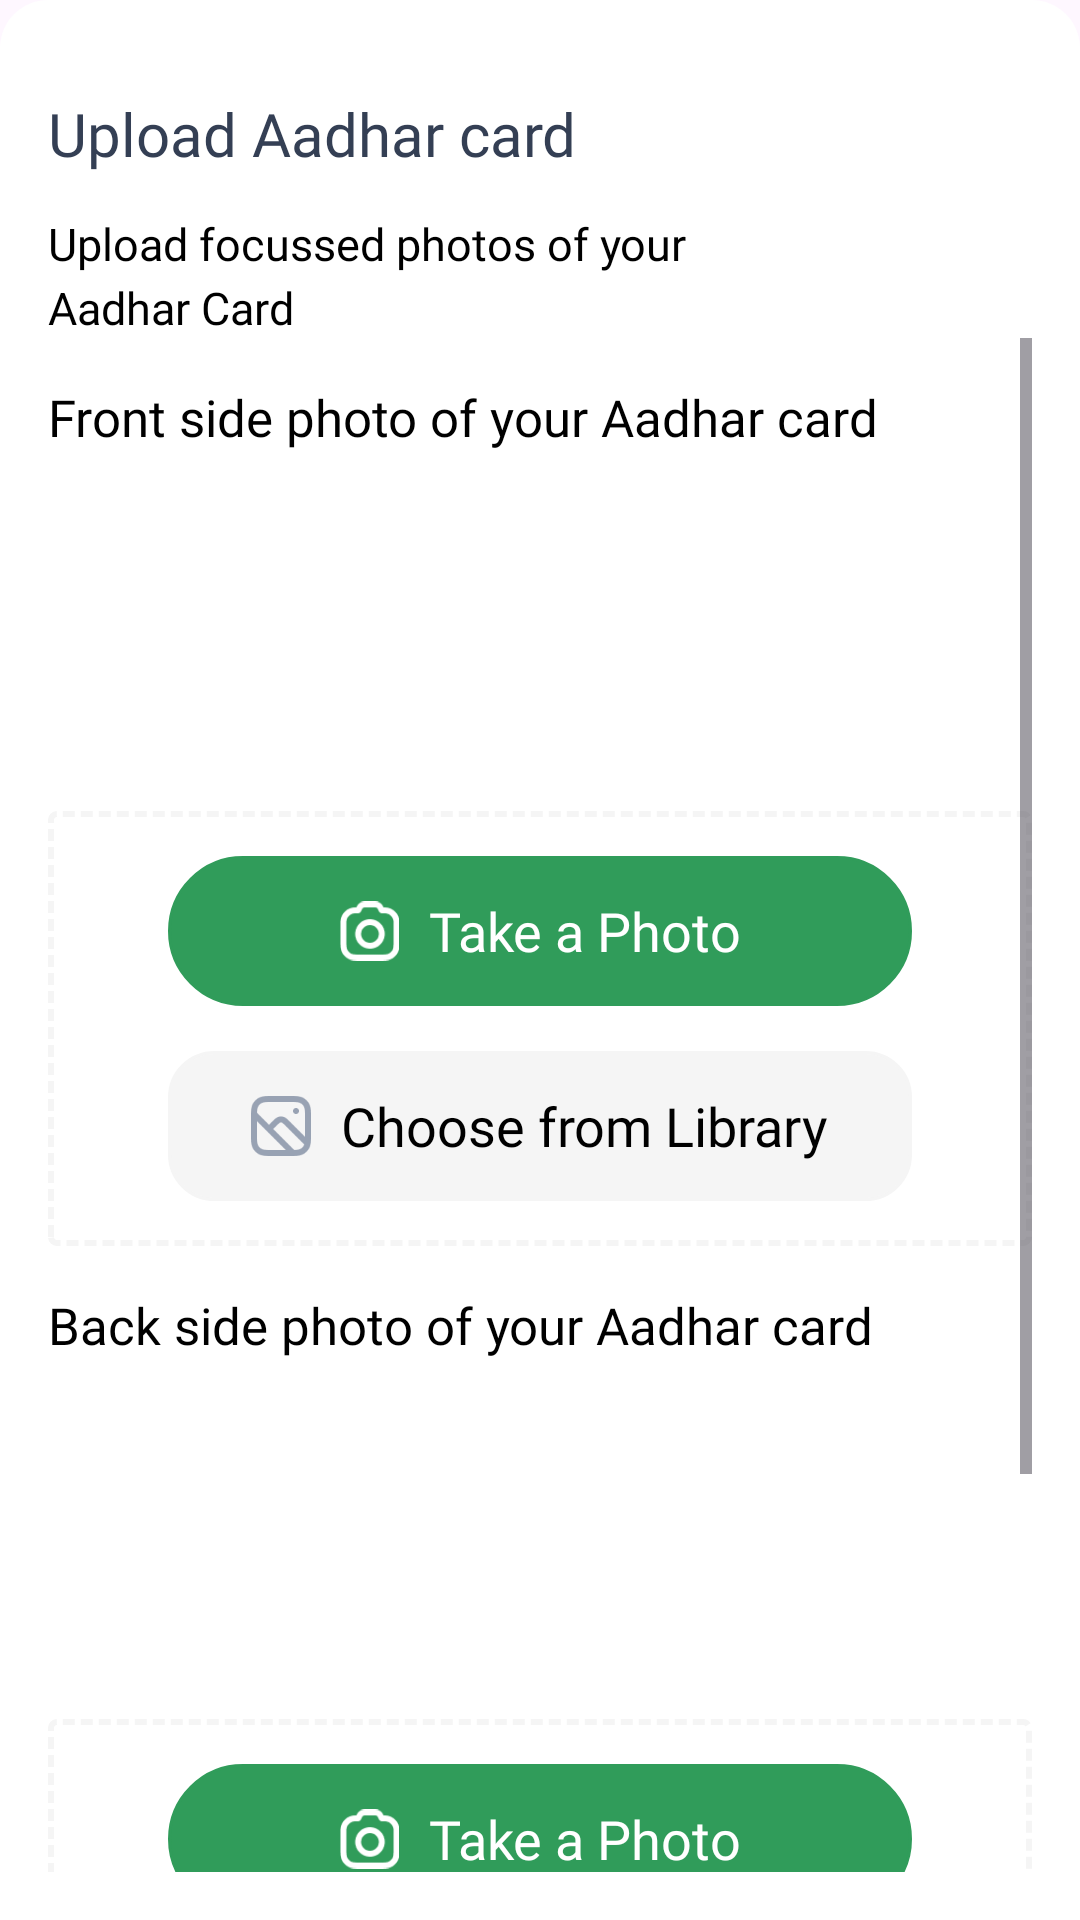

Point at icon controls on the screen. Image size 1080 x 1920, points as point (x, y).
camera: point (369, 931), point (369, 1839)
gallery: point (281, 1126)
